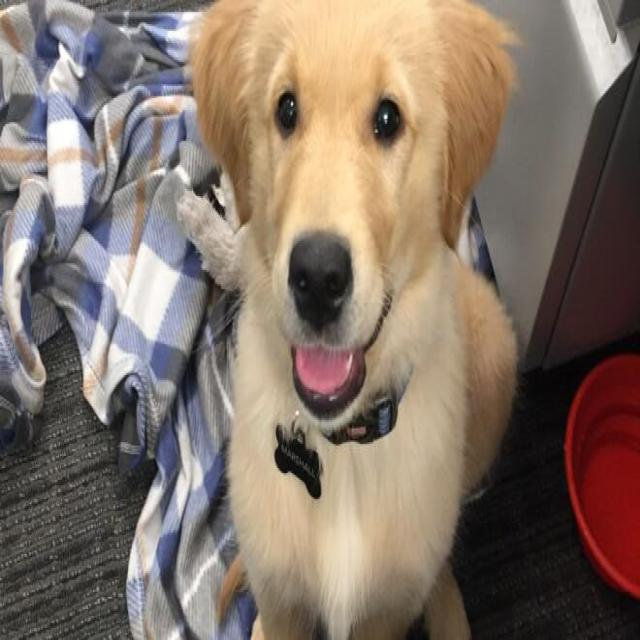Dog: (182, 2, 526, 448)
